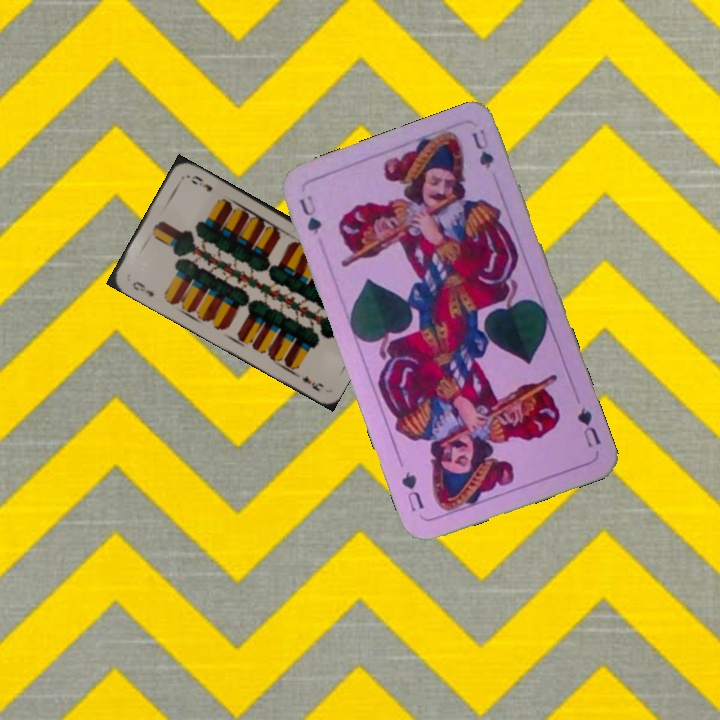E9: (128, 277, 157, 299)
GU: (572, 403, 604, 450), (295, 191, 324, 237)
